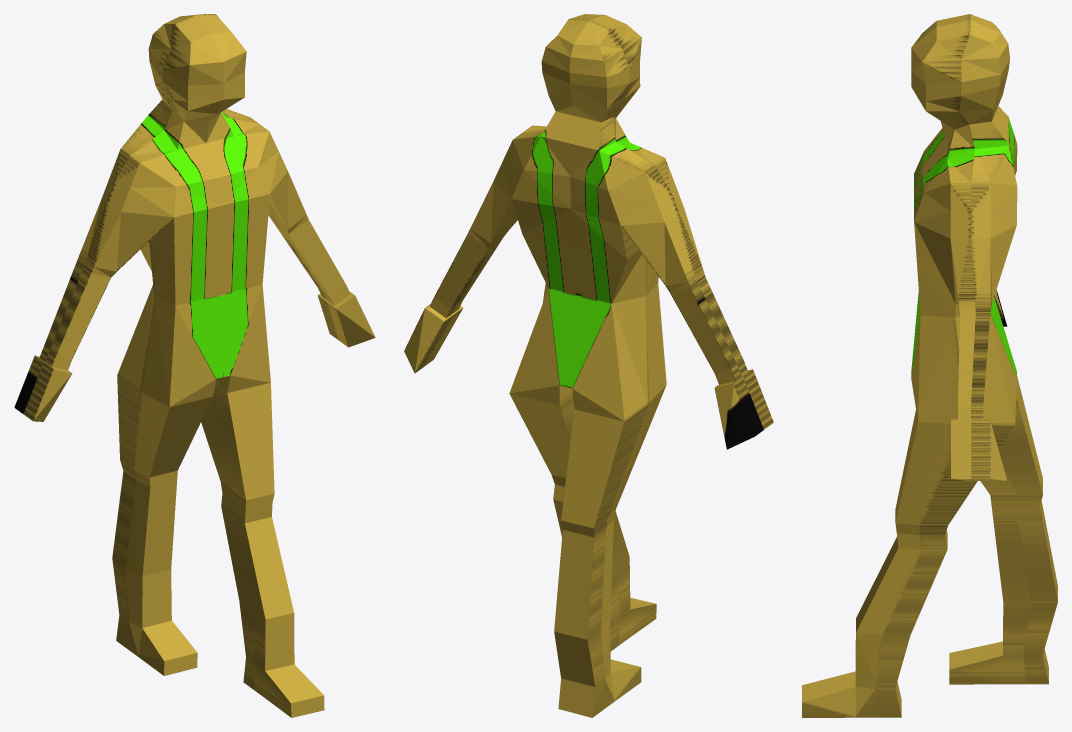
3 views of the same model, side by side, from view 1: azimuth 30°, elevation 25°; view 2: azimuth 150°, elevation 25°; view 3: azimuth 270°, elevation 25° (orthographic). The views are drawn at different scales.
Visible parts, largest first — view 1: Borat; view 2: Borat; view 3: Borat.
Boxes of the visible parts, bbox=[...] form: Borat: bbox=[14, 14, 375, 717]; Borat: bbox=[404, 14, 773, 717]; Borat: bbox=[802, 14, 1057, 717].
Bounding box in the file's own units: 1.79 × 3.23 × 1.11.
